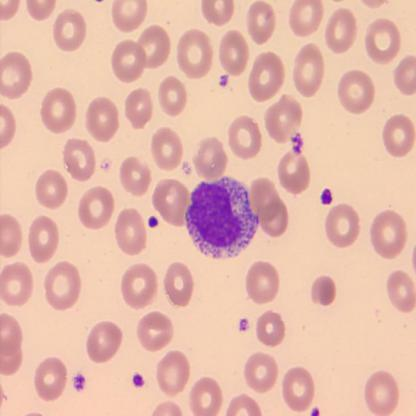Myelocyte: (185, 174, 260, 256)
